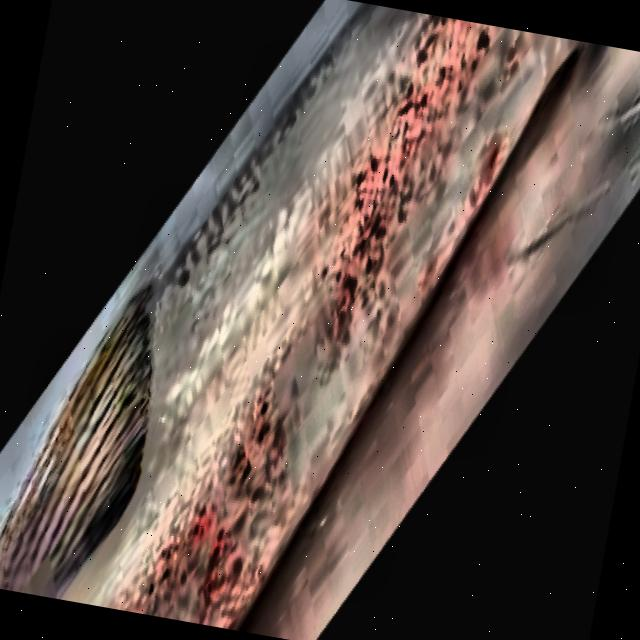mild_red: (72, 6, 575, 627)
